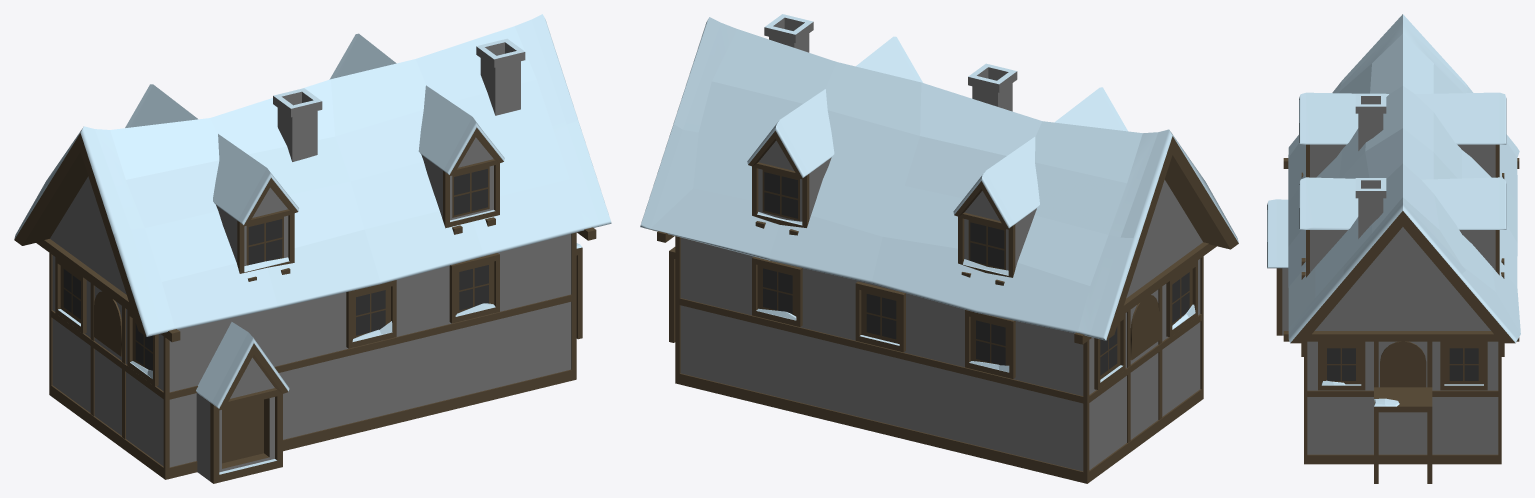
Rendered from model_polytope_snow_house01.fbx.
3 renders of one model, left to right at view 1: azimuth 30°, elevation 25°; view 2: azimuth 150°, elevation 25°; view 3: azimuth 270°, elevation 25°, orthographic. The views are drawn at different scales.
Visible parts, largest first — view 1: model_polytope_snow_house01; view 2: model_polytope_snow_house01; view 3: model_polytope_snow_house01.
Boxes of the visible parts, x1,y1,x2,y2 form: model_polytope_snow_house01: [14, 14, 611, 483]; model_polytope_snow_house01: [640, 14, 1238, 483]; model_polytope_snow_house01: [1267, 14, 1520, 483].
Size of the model in its own units: 1760 by 1100 by 937.
Materials: 1 (1 with a texture image).
